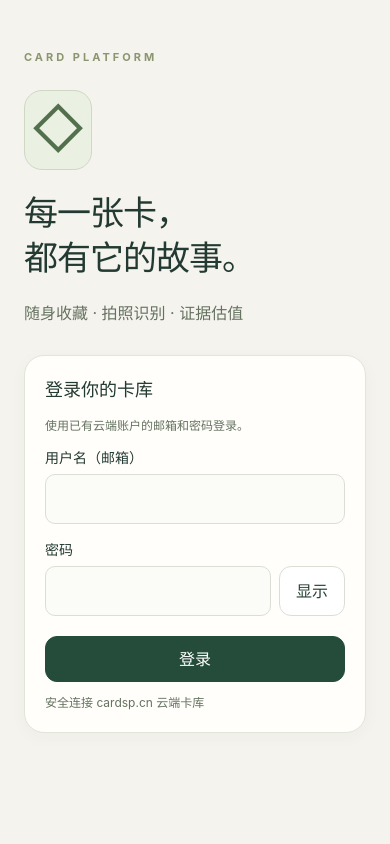
it: provides useful login connection errors without capture draft wording: {}
The image size is (390, 844).
Expected: the heading "登录你的卡库" is shown, [45,379,153,400]
In the field labelled "用户名（邮箱）": (195,499) [45,474,345,524], type "owner@example.com"
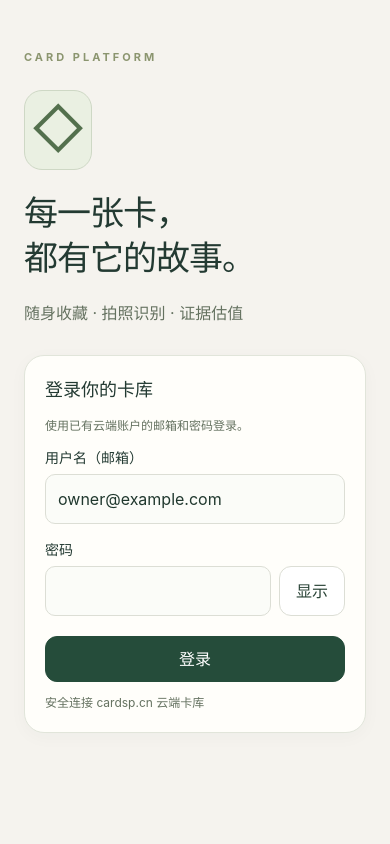
In the password field labelled "密码": (158,591) [45,566,271,616], type "password"
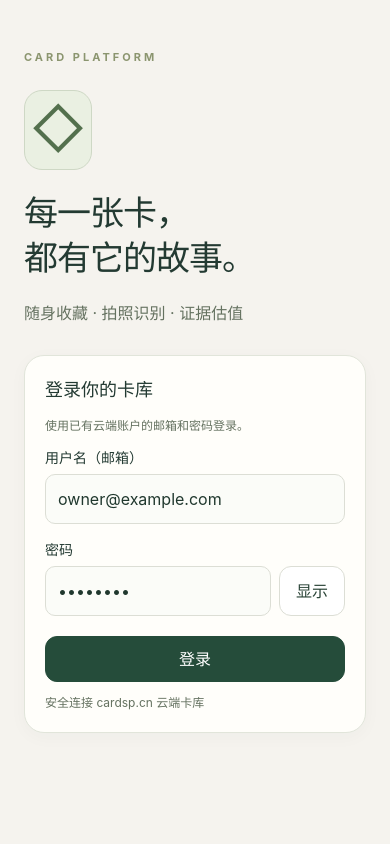
Click the button "登录": (195,659) [45,636,345,682]
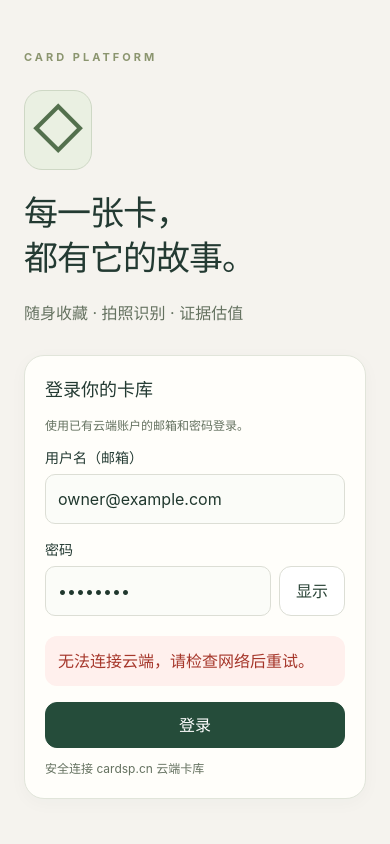
Expected: the button "登录" is enabled, [45,702,345,748]
Expected: the message shows "网络", [45,636,345,686]
